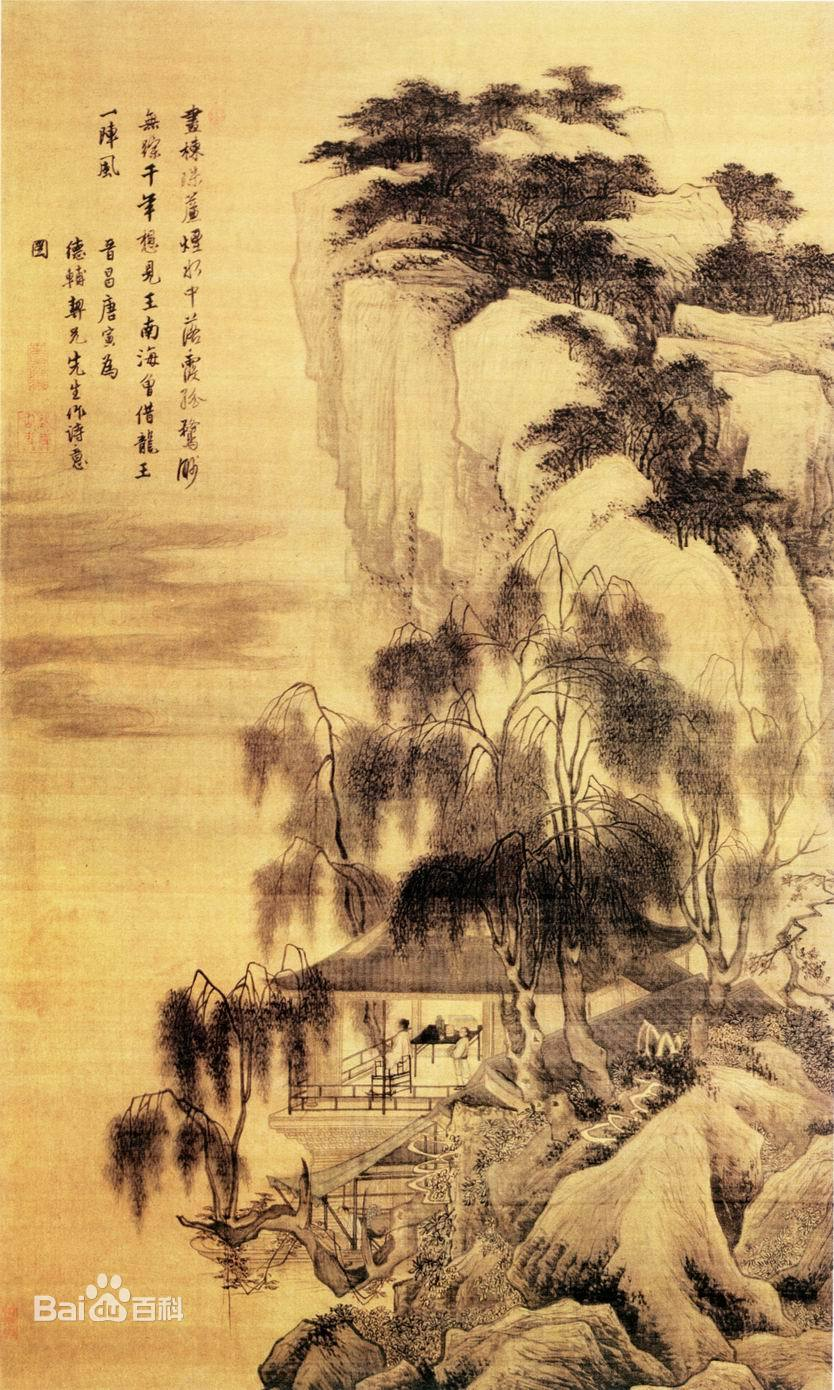booth: (276, 918, 507, 1147)
hill: (320, 1100, 776, 1390)
man: (371, 1018, 418, 1091)
mountain: (317, 282, 548, 596), (633, 556, 834, 701)
tree: (374, 738, 589, 929), (251, 691, 371, 948), (534, 862, 671, 1082), (686, 750, 777, 996), (123, 1106, 245, 1237), (558, 648, 668, 766), (177, 987, 267, 1101), (659, 465, 789, 537), (608, 353, 701, 451), (362, 85, 473, 163), (542, 254, 668, 313), (705, 251, 833, 306), (370, 193, 512, 240), (274, 971, 326, 1078), (480, 81, 598, 116), (526, 179, 624, 218), (715, 169, 784, 219), (551, 422, 629, 466), (509, 159, 640, 179), (501, 568, 536, 641)
